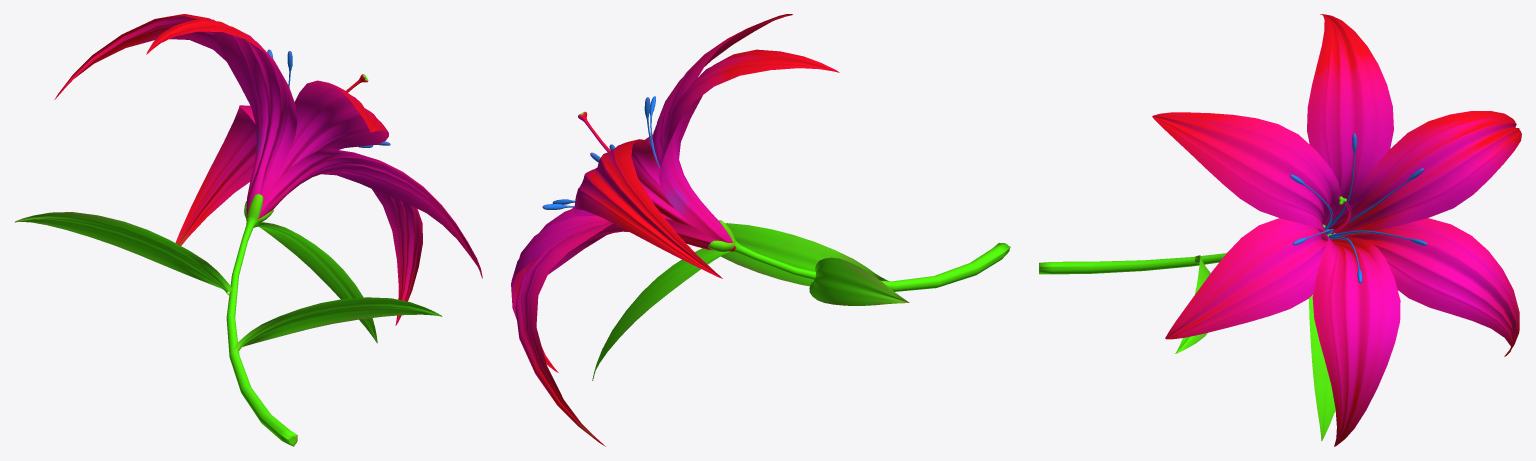
Rendered from lily.glb.
3 renders of one model, left to right at view 1: azimuth 30°, elevation 25°; view 2: azimuth 150°, elevation 25°; view 3: azimuth 270°, elevation 25°, orthographic. The views are drawn at different scales.
Parts seen in each view (by area): view 1: Cone009_Material #26_0; view 2: Cone009_Material #26_0; view 3: Cone009_Material #26_0.
Boxes of the visible parts, left/top/right/bottom form: Cone009_Material #26_0: left=14, top=14, right=482, bottom=446; Cone009_Material #26_0: left=511, top=14, right=1010, bottom=446; Cone009_Material #26_0: left=1039, top=14, right=1521, bottom=446.
Size of the model in its own units: 0.4573 by 0.405 by 0.5357.
1 material, 1 textured.
